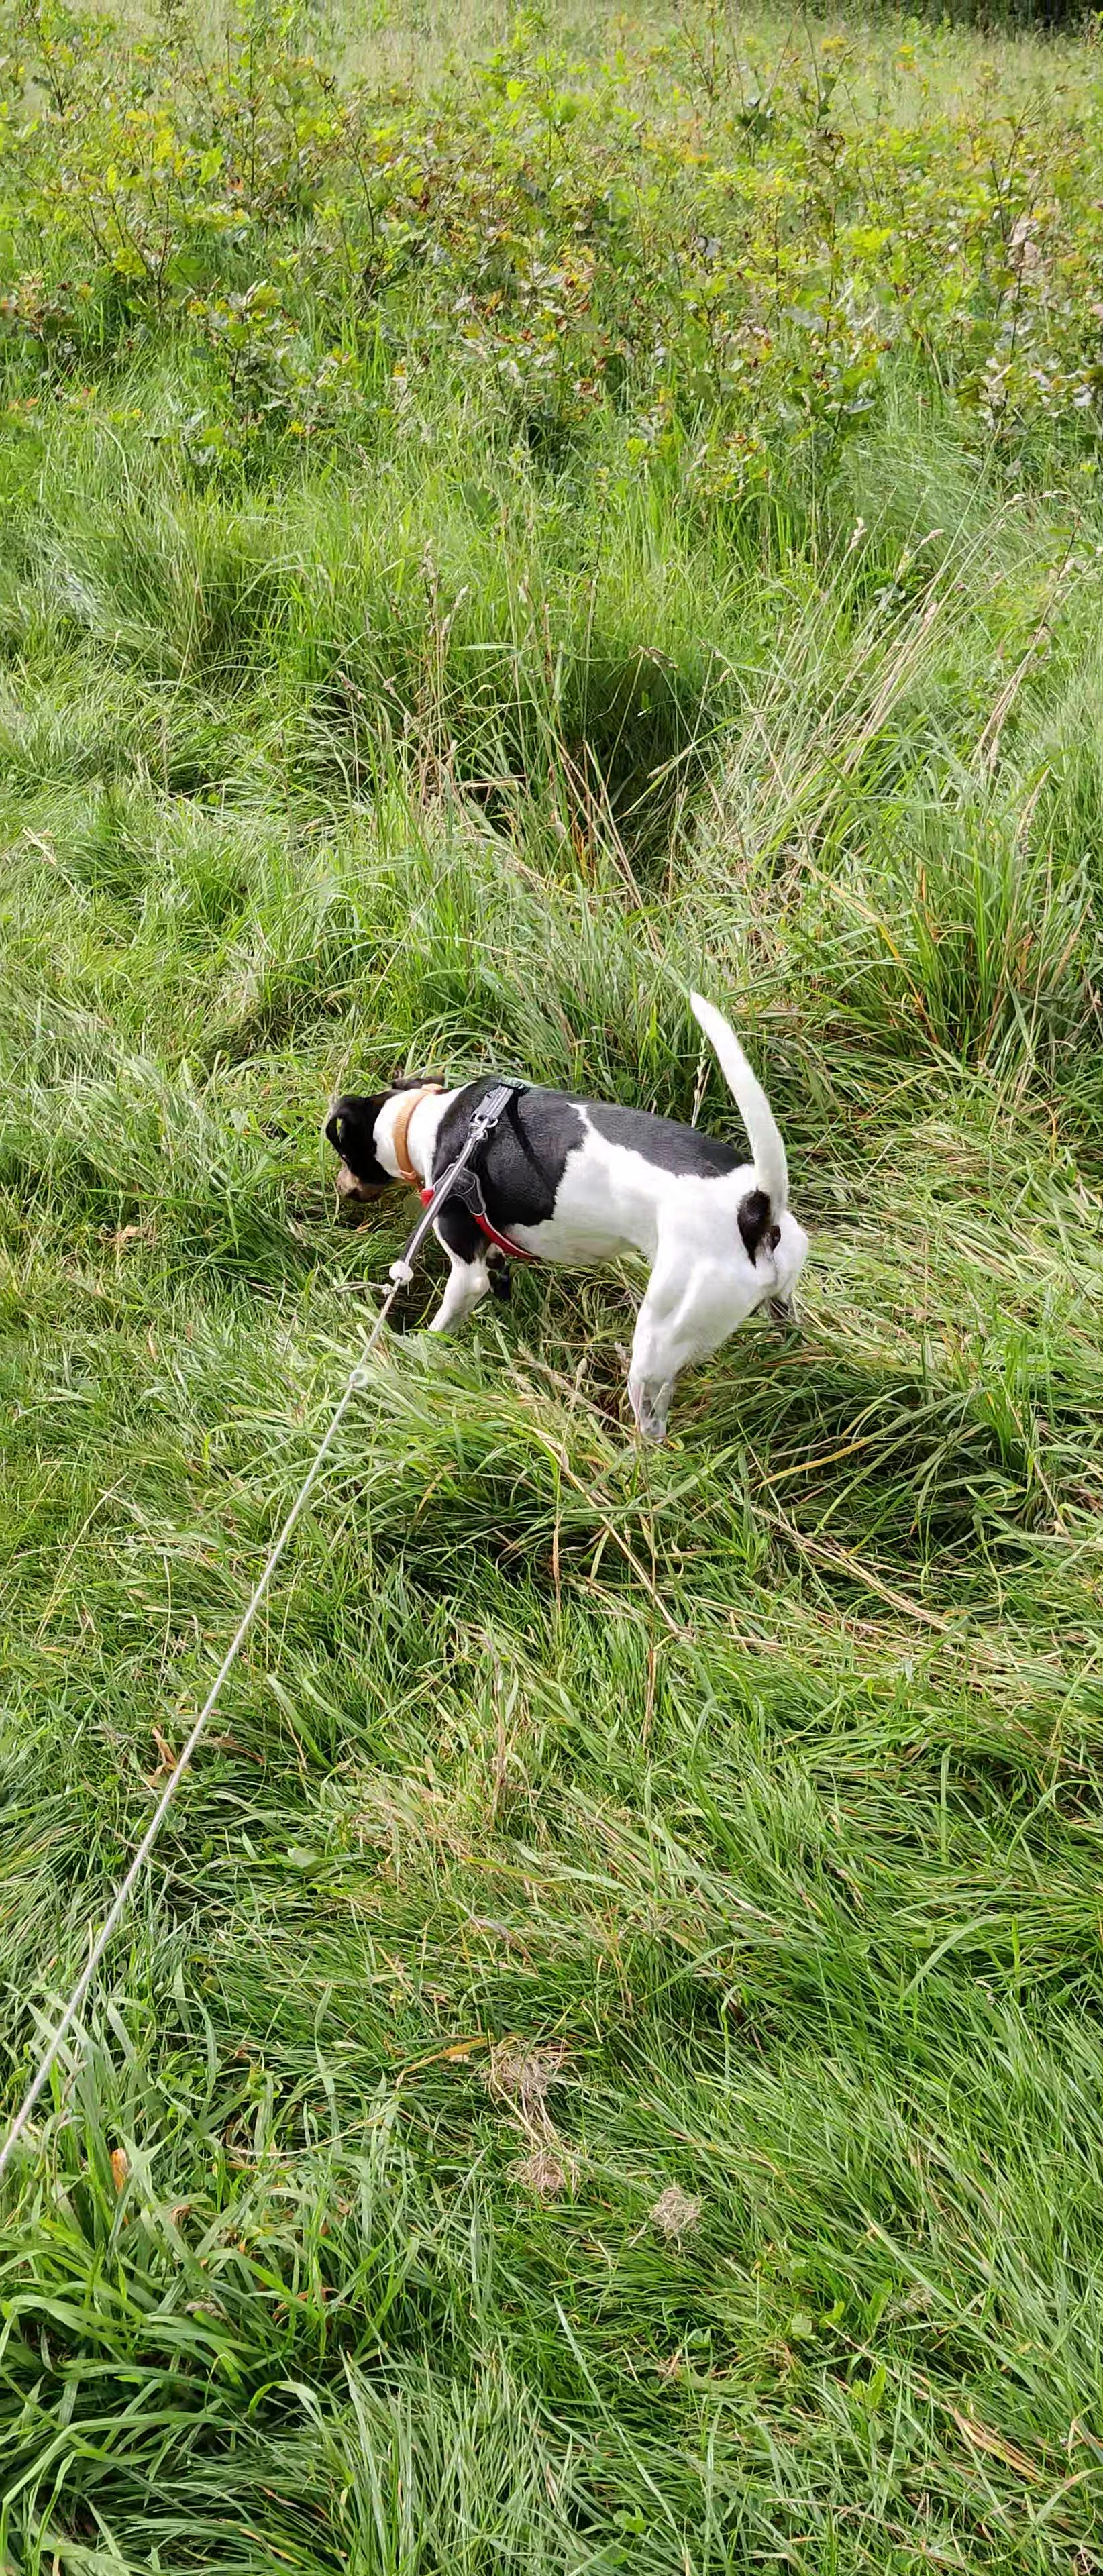Dog: (307, 953, 838, 1475)
